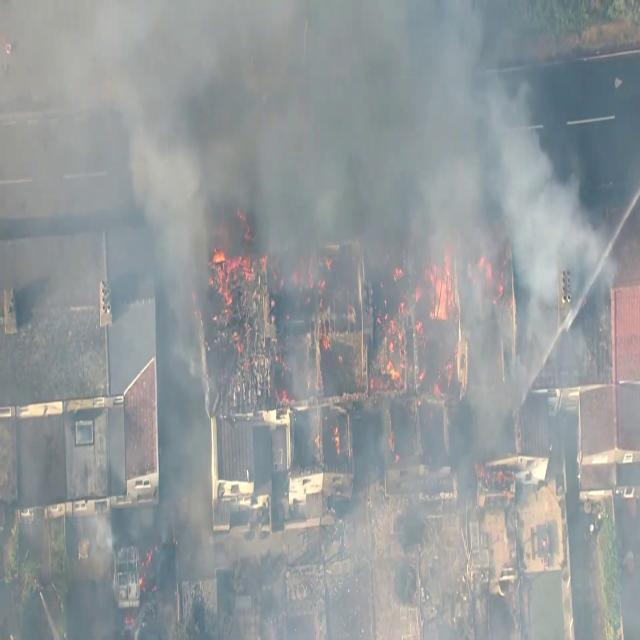Fire: (402, 255, 463, 326), (204, 239, 260, 289)
Smoke: (114, 2, 476, 194)
